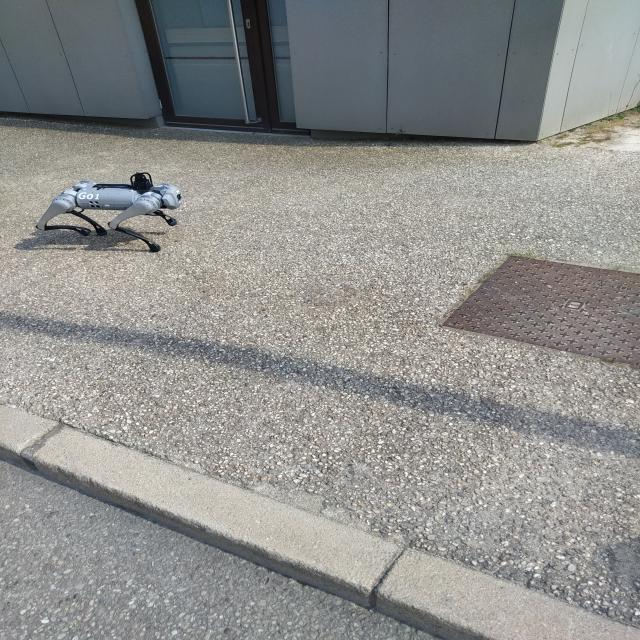unitree-go1-robot: (28, 153, 196, 257)
